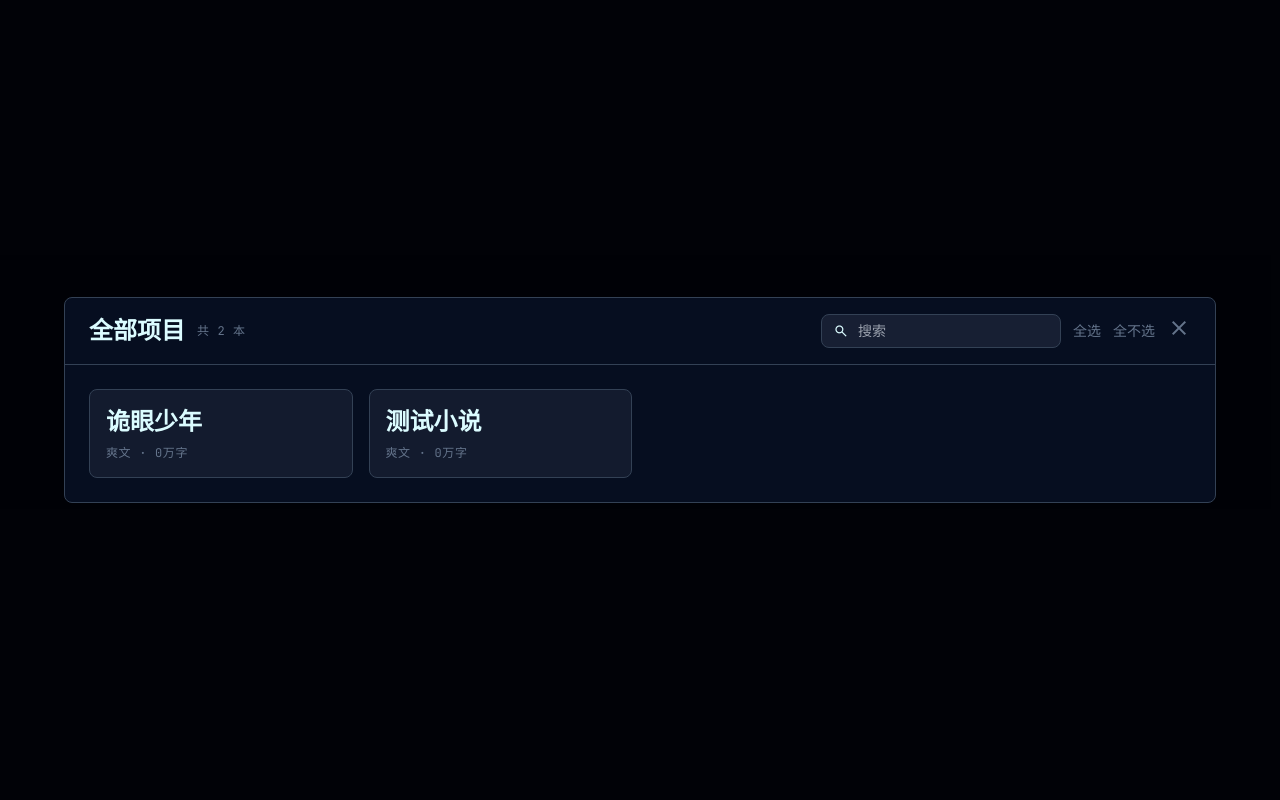
Scenario: BookShelfModal default-select mode › clicking a card body twice toggles selection off and hides the bulk-action-bar
This screenshot has width=1280, height=800.
Click the button "诡眼少年 爽文 · 0万字": coordinates (172, 453) [89,389,352,478]
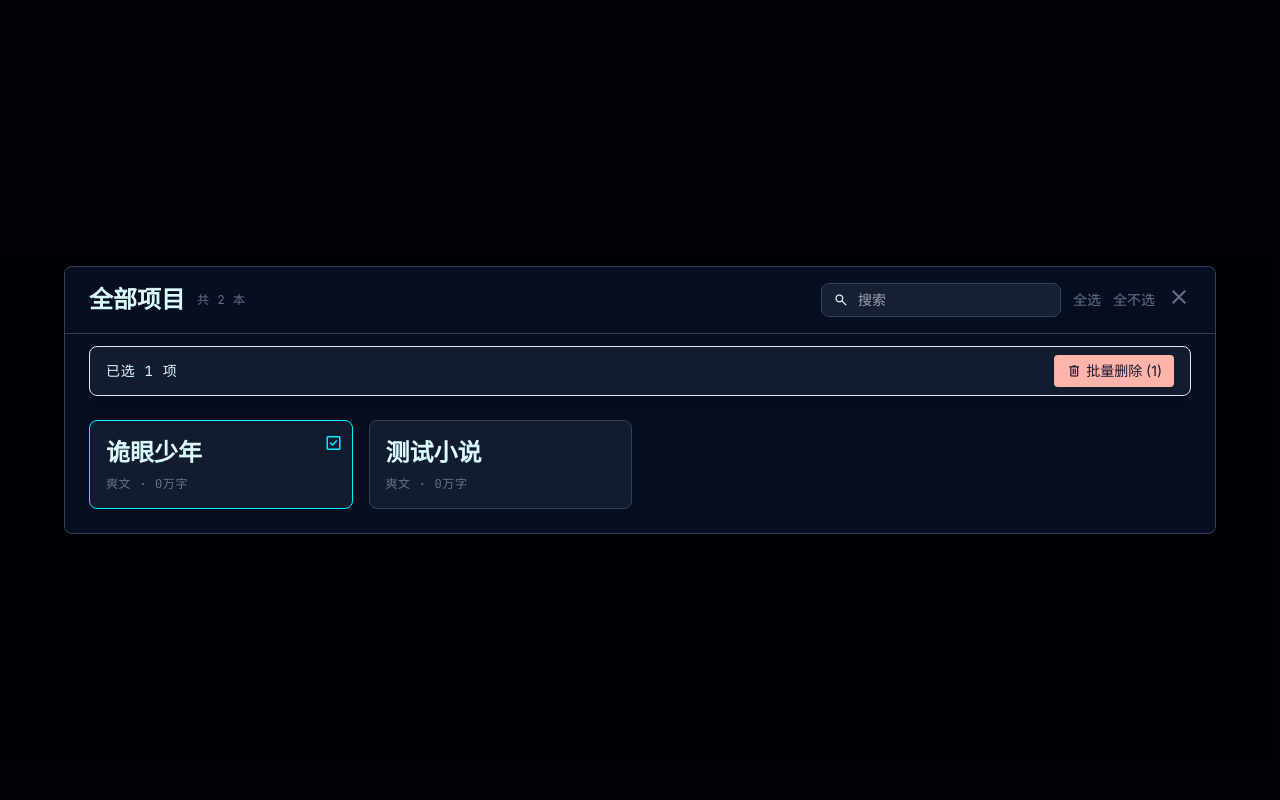
Now the element with test id "bulk-action-bar" is shown, box [89,346,1191,396]
Click the button "诡眼少年 爽文 · 0万字": coordinates (172, 484) [89,420,352,509]
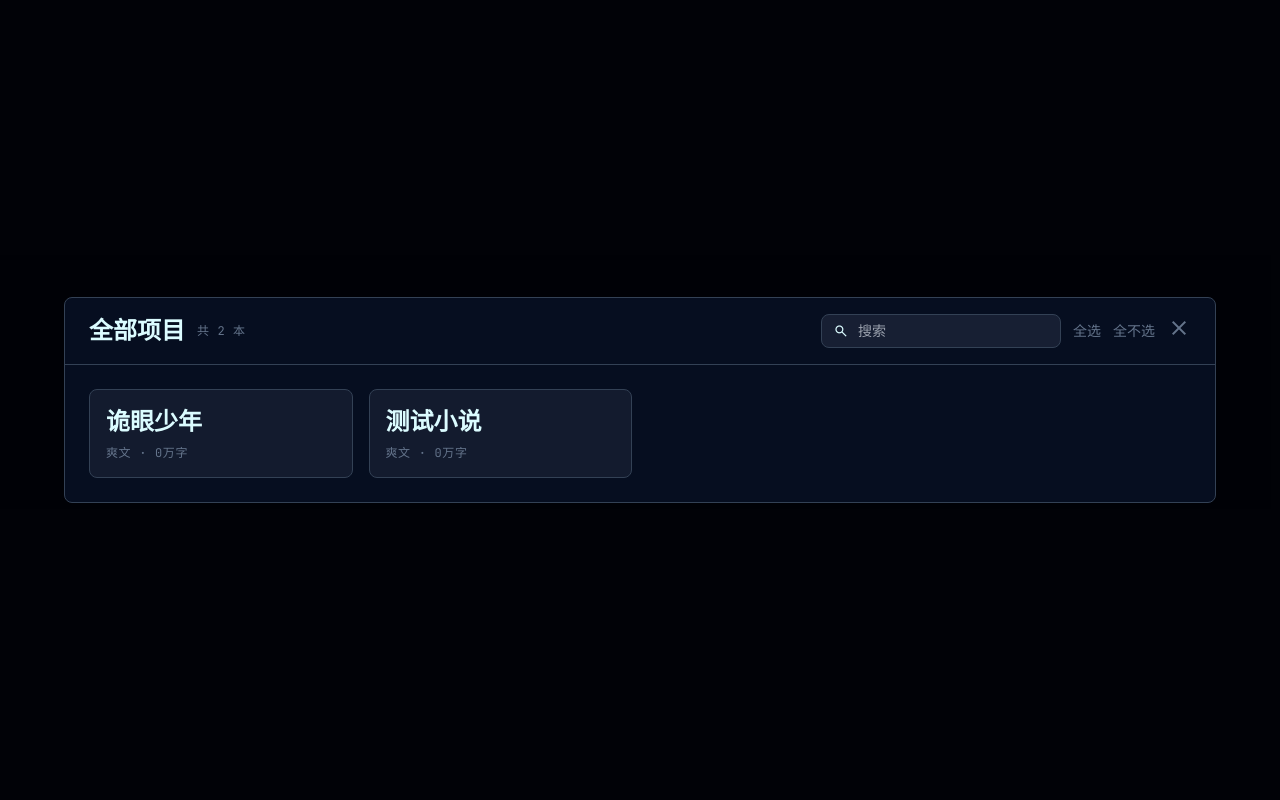
Now the element with test id "bulk-action-bar" is gone
